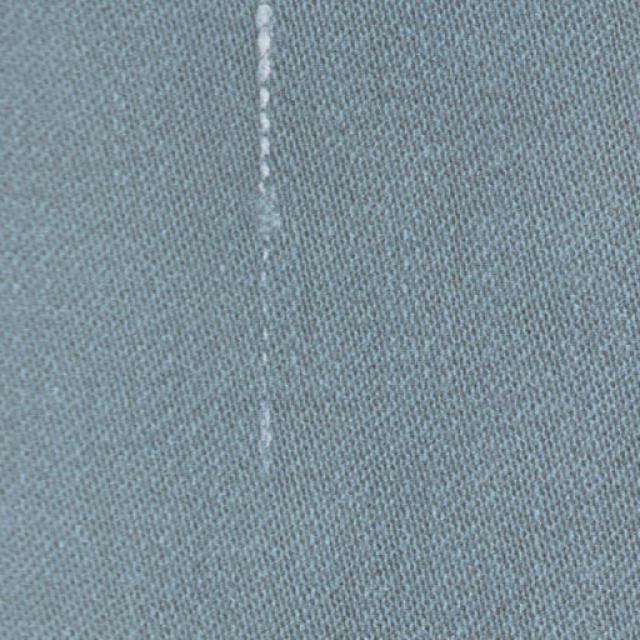Thread_other: (194, 3, 336, 521)
